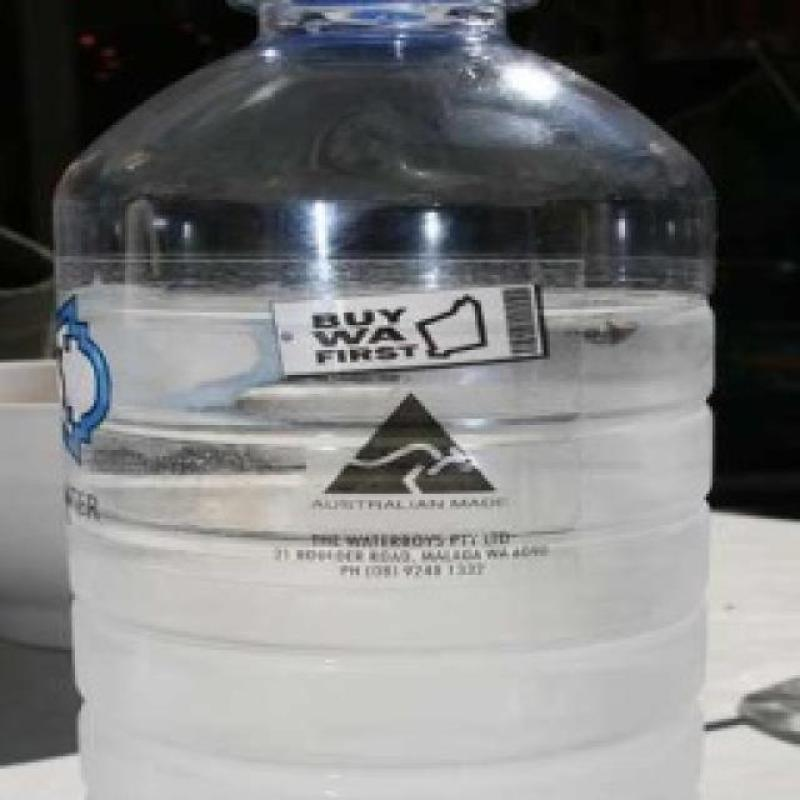botella: (51, 0, 720, 800)
